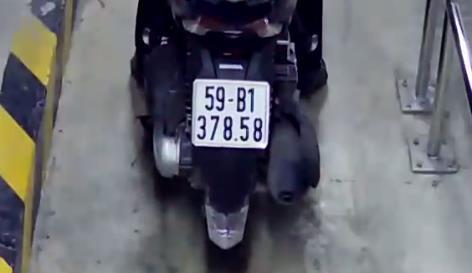lisence: (191, 78, 270, 149)
